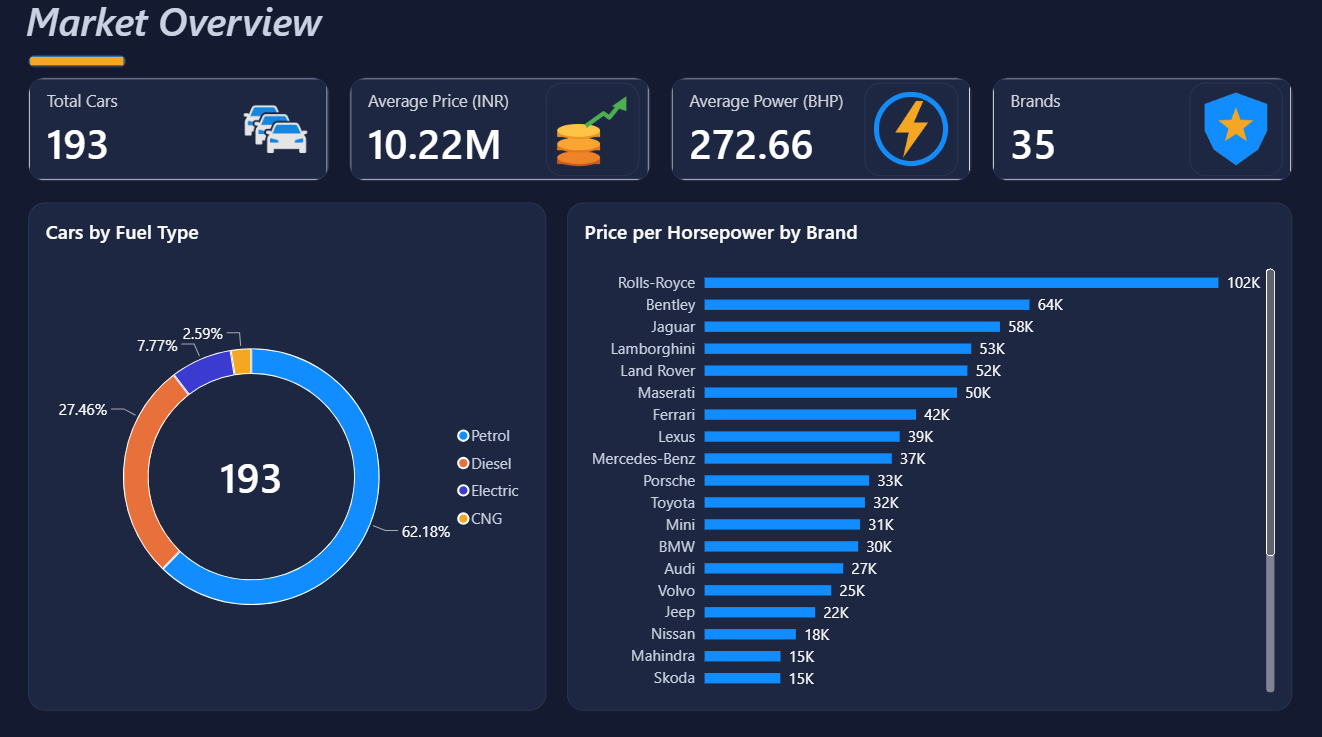

What the dashboard file says about the page in this screenshot:
{"tool":"powerbi","page":{"name":"Market Overview","canvas":[1280,720],"ordinal":1},"visuals":[{"type":"cardVisual","fields":{"Data":["Count(vw_CarAnalysis.car_id)"]},"box":[30,80,290,100],"z":0},{"type":"cardVisual","fields":{"Data":["Avg(vw_CarAnalysis.avg_price)"]},"box":[340,80,290,100],"z":1},{"type":"cardVisual","fields":{"Data":["Avg(vw_CarAnalysis.max_power_bhp)"]},"box":[650,80,290,100],"z":2},{"type":"cardVisual","fields":{"Data":["Count(vw_CarAnalysis.brand)"]},"box":[960,80,290,100],"z":3},{"type":"donutChart","title":"Cars by Fuel Type","fields":{"Category":["vw_CarAnalysis.fuel_type"],"Y":["vw_CarAnalysis.Cars"]},"box":[30,200,500,490],"z":4},{"type":"clusteredBarChart","title":"Price per Horsepower by Brand","fields":{"Category":["vw_CarAnalysis.brand"],"Y":["vw_CarAnalysis.Price per BHP"]},"box":[550,200,700,490],"z":5},{"type":"textbox","box":[28,0,300,64],"z":6},{"type":"shape","box":[30,58,94,12],"z":7},{"type":"image","box":[1151.2,85,90,90],"z":8},{"type":"image","box":[530,85,90,90],"z":9},{"type":"image","box":[837.5,85,90,90],"z":10},{"type":"image","box":[220,80,100,100],"z":11}]}

Visuals, with their boxes in screenshot pixels (x1, y1, x2, y2), scaled from the page's 1280x720 canvas onto the 1322x737 screenshot:
cardVisual - Count(vw_CarAnalysis.car_id): [31, 82, 330, 184]
cardVisual - Avg(vw_CarAnalysis.avg_price): [351, 82, 651, 184]
cardVisual - Avg(vw_CarAnalysis.max_power_bhp): [671, 82, 971, 184]
cardVisual - Count(vw_CarAnalysis.brand): [991, 82, 1291, 184]
"Cars by Fuel Type" donutChart: [31, 205, 547, 706]
"Price per Horsepower by Brand" clusteredBarChart: [568, 205, 1291, 706]
textbox: [29, 0, 339, 66]
shape: [31, 59, 128, 72]
image: [1189, 87, 1282, 179]
image: [547, 87, 640, 179]
image: [865, 87, 958, 179]
image: [227, 82, 330, 184]
